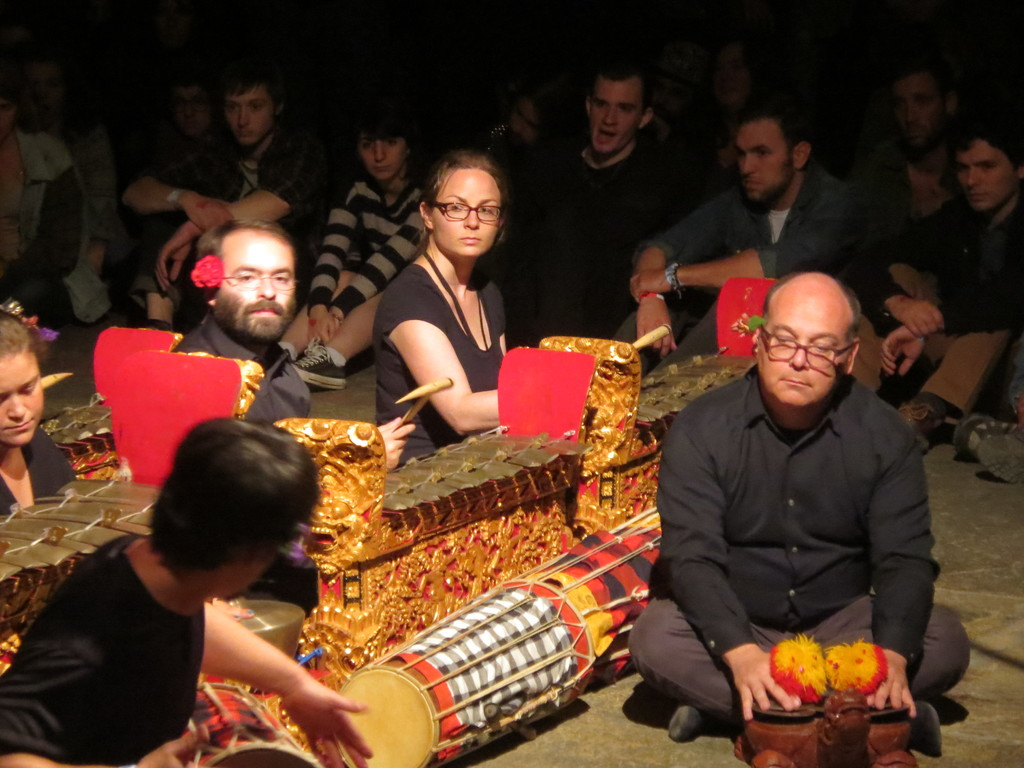Footwear: (898, 403, 943, 459), (977, 432, 1023, 484), (904, 701, 943, 756), (665, 703, 701, 740)
